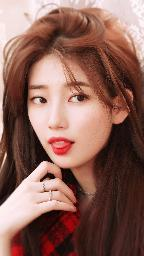face: (27, 59, 111, 165)
